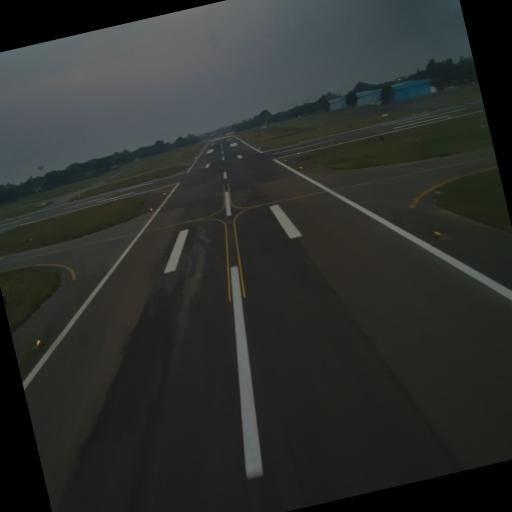on: (432, 224, 443, 242), (33, 336, 43, 353)
